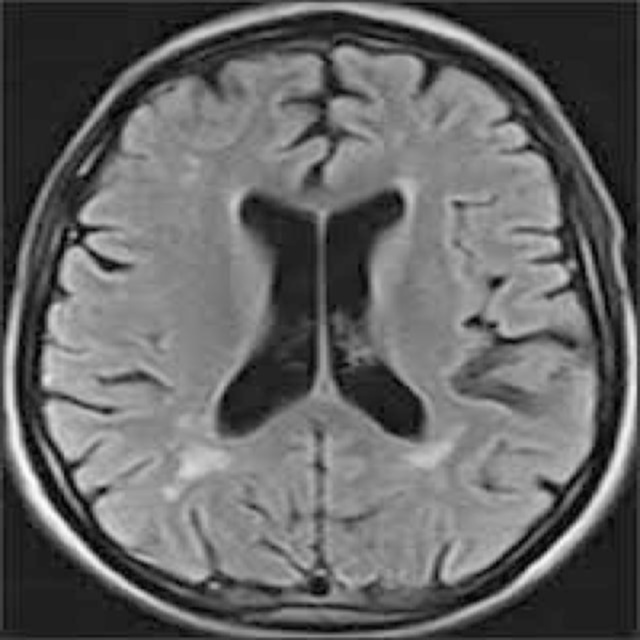glioma tumor: (121, 66, 534, 584)
